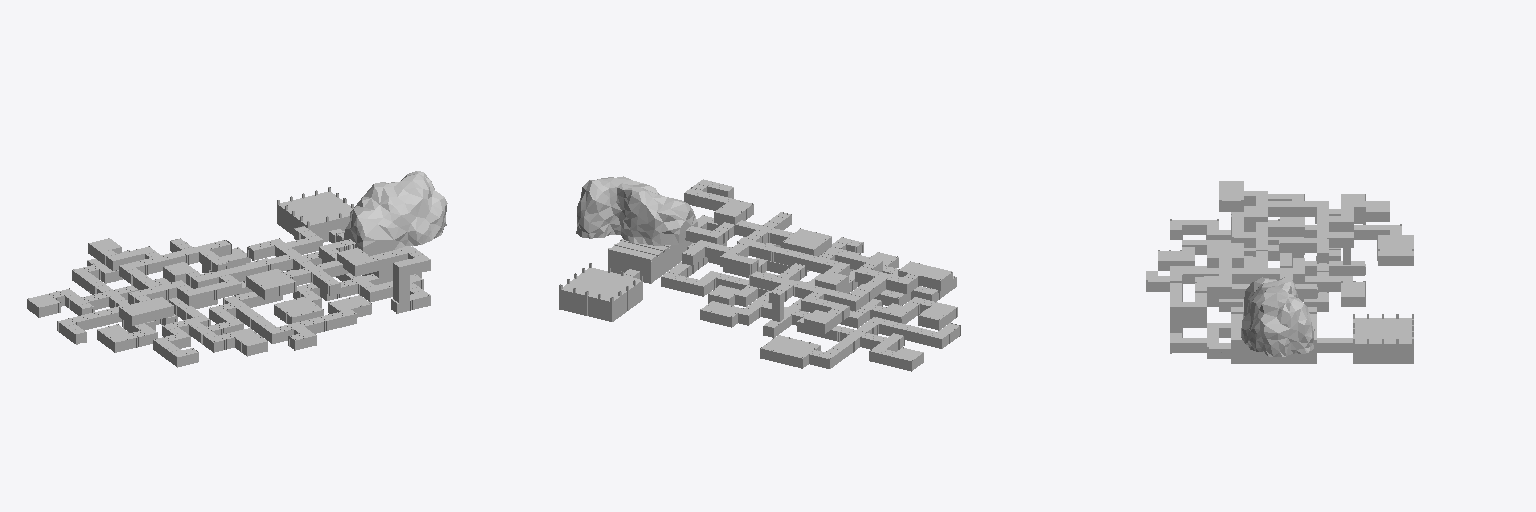
3 renders of one model, left to right at view 1: azimuth 30°, elevation 25°; view 2: azimuth 150°, elevation 25°; view 3: azimuth 270°, elevation 25°, orthographic.
Parts seen in each view (by area): view 1: Plane.003_Plane.002, Plane.002_Plane.003; view 2: Plane.003_Plane.002, Plane.002_Plane.003; view 3: Plane.003_Plane.002, Plane.002_Plane.003.
Part boxes in pixels (left/top/right/bottom): Plane.003_Plane.002: left=28, top=171, right=447, bottom=366; Plane.002_Plane.003: left=27, top=187, right=430, bottom=367; Plane.003_Plane.002: left=561, top=176, right=959, bottom=370; Plane.002_Plane.003: left=559, top=182, right=960, bottom=371; Plane.003_Plane.002: left=1146, top=181, right=1413, bottom=363; Plane.002_Plane.003: left=1146, top=194, right=1413, bottom=363.
Size of the model in its own units: 0.5514 by 0.1102 by 0.3442.